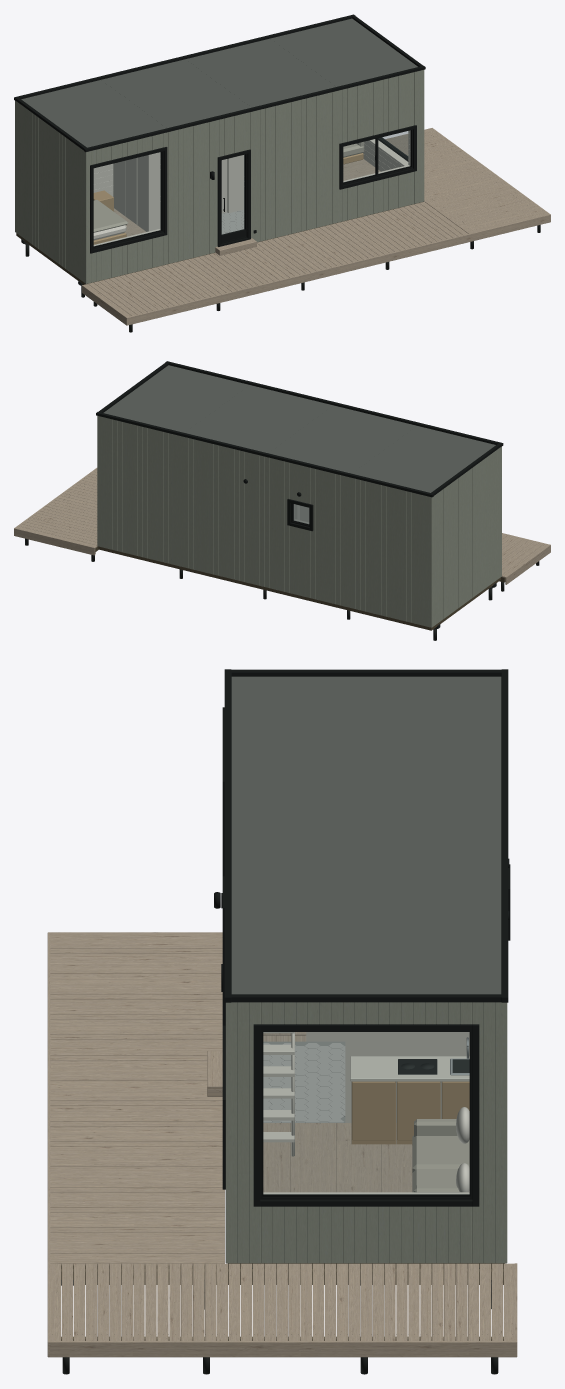
The model's file is Campingdom32.glb.
3 views of the same model, one above another, from view 1: azimuth 30°, elevation 25°; view 2: azimuth 150°, elevation 25°; view 3: azimuth 270°, elevation 25° (orthographic). The views are drawn at different scales.
Parts seen in each view (by area): view 1: 02_Facade__F01_Painted_pine_sage_20x140, 05_Terrace__T01_Greige_timber_deck, 04_Roof__R01_Grey_PVC_membrane, 03_Windows_Doors__G01_Clear_grey_glazing, 03_Windows_Doors__M01_Anthracite_frames, 04_Roof__M01_Anthracite_frames, 07_Interior__I01_Whitewashed_timber, 08_Furniture__I01_Whitewashed_timber, 08_Furniture__FU02_Warm_grey_linen, 07_Interior__I03_Natural_oak_floor, 03_Windows_Doors__M02_Glazing_gasket, 08_Furniture__FU01_Light_oak (+2 smaller); view 2: 02_Facade__F01_Painted_pine_sage_20x140, 04_Roof__R01_Grey_PVC_membrane, 05_Terrace__T01_Greige_timber_deck, 04_Roof__M01_Anthracite_frames, 01_Structure__T02_Substructure_timber, 03_Windows_Doors__M01_Anthracite_frames, 06_Foundation__S01_Black_steel_piles; view 3: 05_Terrace__T01_Greige_timber_deck, 04_Roof__R01_Grey_PVC_membrane, 03_Windows_Doors__G01_Clear_grey_glazing, 02_Facade__F01_Painted_pine_sage_20x140, 04_Roof__M01_Anthracite_frames, 03_Windows_Doors__M01_Anthracite_frames, 07_Interior__I03_Natural_oak_floor, 07_Interior__I01_Whitewashed_timber, 08_Furniture__FU01_Light_oak, 07_Interior__I04_Warm_grey_porcelain, 08_Furniture__FU02_Warm_grey_linen, 08_Furniture__FU06_Light_worktop (+3 smaller).
Part boxes in pixels (x1,y1,x2,y2): 02_Facade__F01_Painted_pine_sage_20x140: (15,70,424,283); 05_Terrace__T01_Greige_timber_deck: (82,128,550,325); 04_Roof__R01_Grey_PVC_membrane: (21,18,417,147); 03_Windows_Doors__G01_Clear_grey_glazing: (94,131,410,246); 03_Windows_Doors__M01_Anthracite_frames: (90,125,416,253); 04_Roof__M01_Anthracite_frames: (14,14,425,152); 07_Interior__I01_Whitewashed_timber: (93,130,410,246); 08_Furniture__I01_Whitewashed_timber: (113,152,160,231); 08_Furniture__FU02_Warm_grey_linen: (93,141,364,232); 07_Interior__I03_Natural_oak_floor: (114,159,380,236); 03_Windows_Doors__M02_Glazing_gasket: (93,130,411,247); 08_Furniture__FU01_Light_oak: (93,153,363,244); 02_Facade__F01_Painted_pine_sage_20x140: (97,416,501,627); 04_Roof__R01_Grey_PVC_membrane: (103,365,495,492); 05_Terrace__T01_Greige_timber_deck: (14,468,550,584); 04_Roof__M01_Anthracite_frames: (96,361,503,497); 01_Structure__T02_Substructure_timber: (98,546,500,630); 03_Windows_Doors__M01_Anthracite_frames: (287,499,313,531); 06_Foundation__S01_Black_steel_piles: (25,538,539,640); 05_Terrace__T01_Greige_timber_deck: (47,932,517,1357); 04_Roof__R01_Grey_PVC_membrane: (231,676,501,994); 03_Windows_Doors__G01_Clear_grey_glazing: (263,1032,469,1194); 02_Facade__F01_Painted_pine_sage_20x140: (225,1002,507,1263); 04_Roof__M01_Anthracite_frames: (224,669,508,1002); 03_Windows_Doors__M01_Anthracite_frames: (221,707,510,1206); 07_Interior__I03_Natural_oak_floor: (263,1032,412,1192); 07_Interior__I01_Whitewashed_timber: (263,1032,469,1194); 08_Furniture__FU01_Light_oak: (351,1081,469,1144); 07_Interior__I04_Warm_grey_porcelain: (263,1043,345,1116); 08_Furniture__FU02_Warm_grey_linen: (412,1119,469,1192); 08_Furniture__FU06_Light_worktop: (350,1056,469,1081).
Bounding box in the file's own units: 11.54 × 4 × 5.59.
20 materials, 3 textured.
